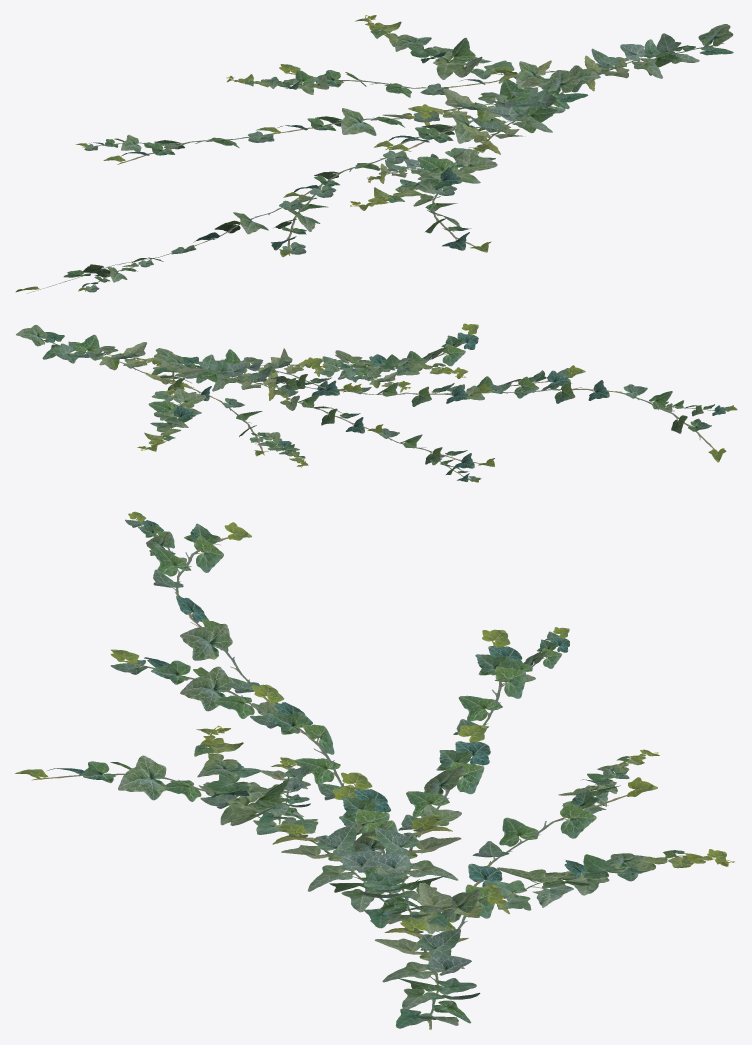
The model's file is sm_Ivy_01_04.fbx.
The picture shows the model from 3 angles, top to bottom: view 1: azimuth 30°, elevation 25°; view 2: azimuth 150°, elevation 25°; view 3: azimuth 270°, elevation 25°; orthographic projection. The views are drawn at different scales.
Parts seen in each view (by area): view 1: sm_Ivy_01_04; view 2: sm_Ivy_01_04; view 3: sm_Ivy_01_04.
Boxes of the visible parts, bbox=[...] form: sm_Ivy_01_04: bbox=[15, 15, 733, 293]; sm_Ivy_01_04: bbox=[16, 323, 737, 482]; sm_Ivy_01_04: bbox=[15, 511, 734, 1029].
Size of the model in its own units: 248 by 146 by 12.5.
